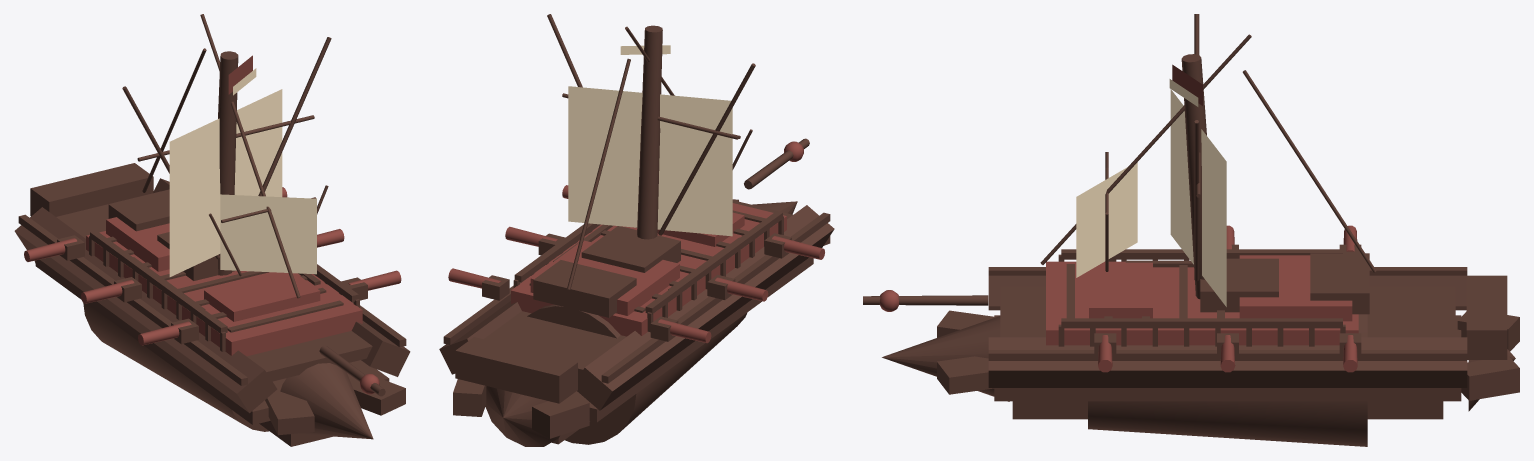
Rendered from enemy_raider_v2.glb.
3 views of the same model, side by side, from view 1: azimuth 30°, elevation 25°; view 2: azimuth 150°, elevation 25°; view 3: azimuth 270°, elevation 25° (orthographic). The views are drawn at different scales.
Parts seen in each view (by area): view 1: ship-sail-main, ship-hull-side-left, ship-deck, ship-sail-fore, ship-bow, ship-hull-upper, ship-stern-transom, ship-forecastle, ship-hull, ship-hull-mid, ship-mast, ship-gunwale-left (+26 smaller); view 2: ship-sail-main, ship-hull-side-left, ship-stern-transom, ship-hull, ship-deck, ship-mast, ship-hull-upper, ship-stern-gallery, ship-cabin, ship-quarterdeck, ship-stern, ship-gunwale-left (+22 smaller); view 3: ship-hull-side-right, ship-hull, ship-deck, ship-hull-upper, ship-hull-mid, ship-sail-main, ship-sail-fore, ship-gunwale-right, ship-quarterdeck, ship-stern-transom, ship-forecastle, ship-rail-right (+15 smaller).
Part boxes in pixels (x1,y1,x2,y2): ship-sail-main: (169,89,282,276); ship-hull-side-left: (14,207,277,413); ship-deck: (86,231,362,356); ship-sail-fore: (220,194,316,274); ship-bow: (280,363,373,439); ship-hull-upper: (56,191,372,381); ship-stern-transom: (30,163,153,216); ship-forecastle: (204,272,320,321); ship-hull: (83,303,268,431); ship-hull-mid: (35,259,389,424); ship-mast: (217,51,238,275); ship-gunwale-left: (18,214,247,385); ship-sail-main: (568,86,732,236); ship-hull-side-left: (577,205,834,410); ship-stern-transom: (455,337,577,403); ship-hull: (527,304,747,444); ship-deck: (511,203,786,336); ship-mast: (637,25,662,239); ship-hull-upper: (484,200,792,377); ship-stern-gallery: (533,260,636,317); ship-cabin: (581,226,680,272); ship-quarterdeck: (530,240,679,315); ship-stern: (485,386,559,446); ship-gunwale-left: (601,212,830,383); ship-hull-side-right: (988,337,1467,387); ship-hull: (1088,314,1367,446); ship-deck: (1046,261,1358,345); ship-hull-upper: (1000,286,1455,337); ship-hull-mid: (994,315,1461,401); ship-sail-main: (1170,89,1226,306); ship-sail-fore: (1076,162,1137,277); ship-gunwale-right: (988,350,1467,360); ship-quarterdeck: (1239,255,1352,321); ship-stern-transom: (1466,275,1507,359); ship-forecastle: (1089,262,1152,318); ship-rail-right: (1061,318,1342,328).
Size of the model in its own units: 3.49 by 4.89 by 7.18.
